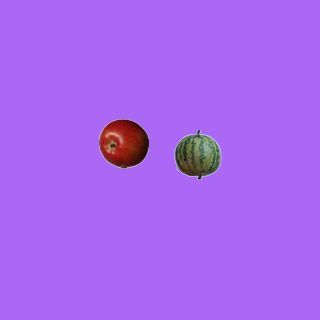Apple Braeburn: (98, 118, 148, 168)
Watermelon: (172, 129, 222, 179)
